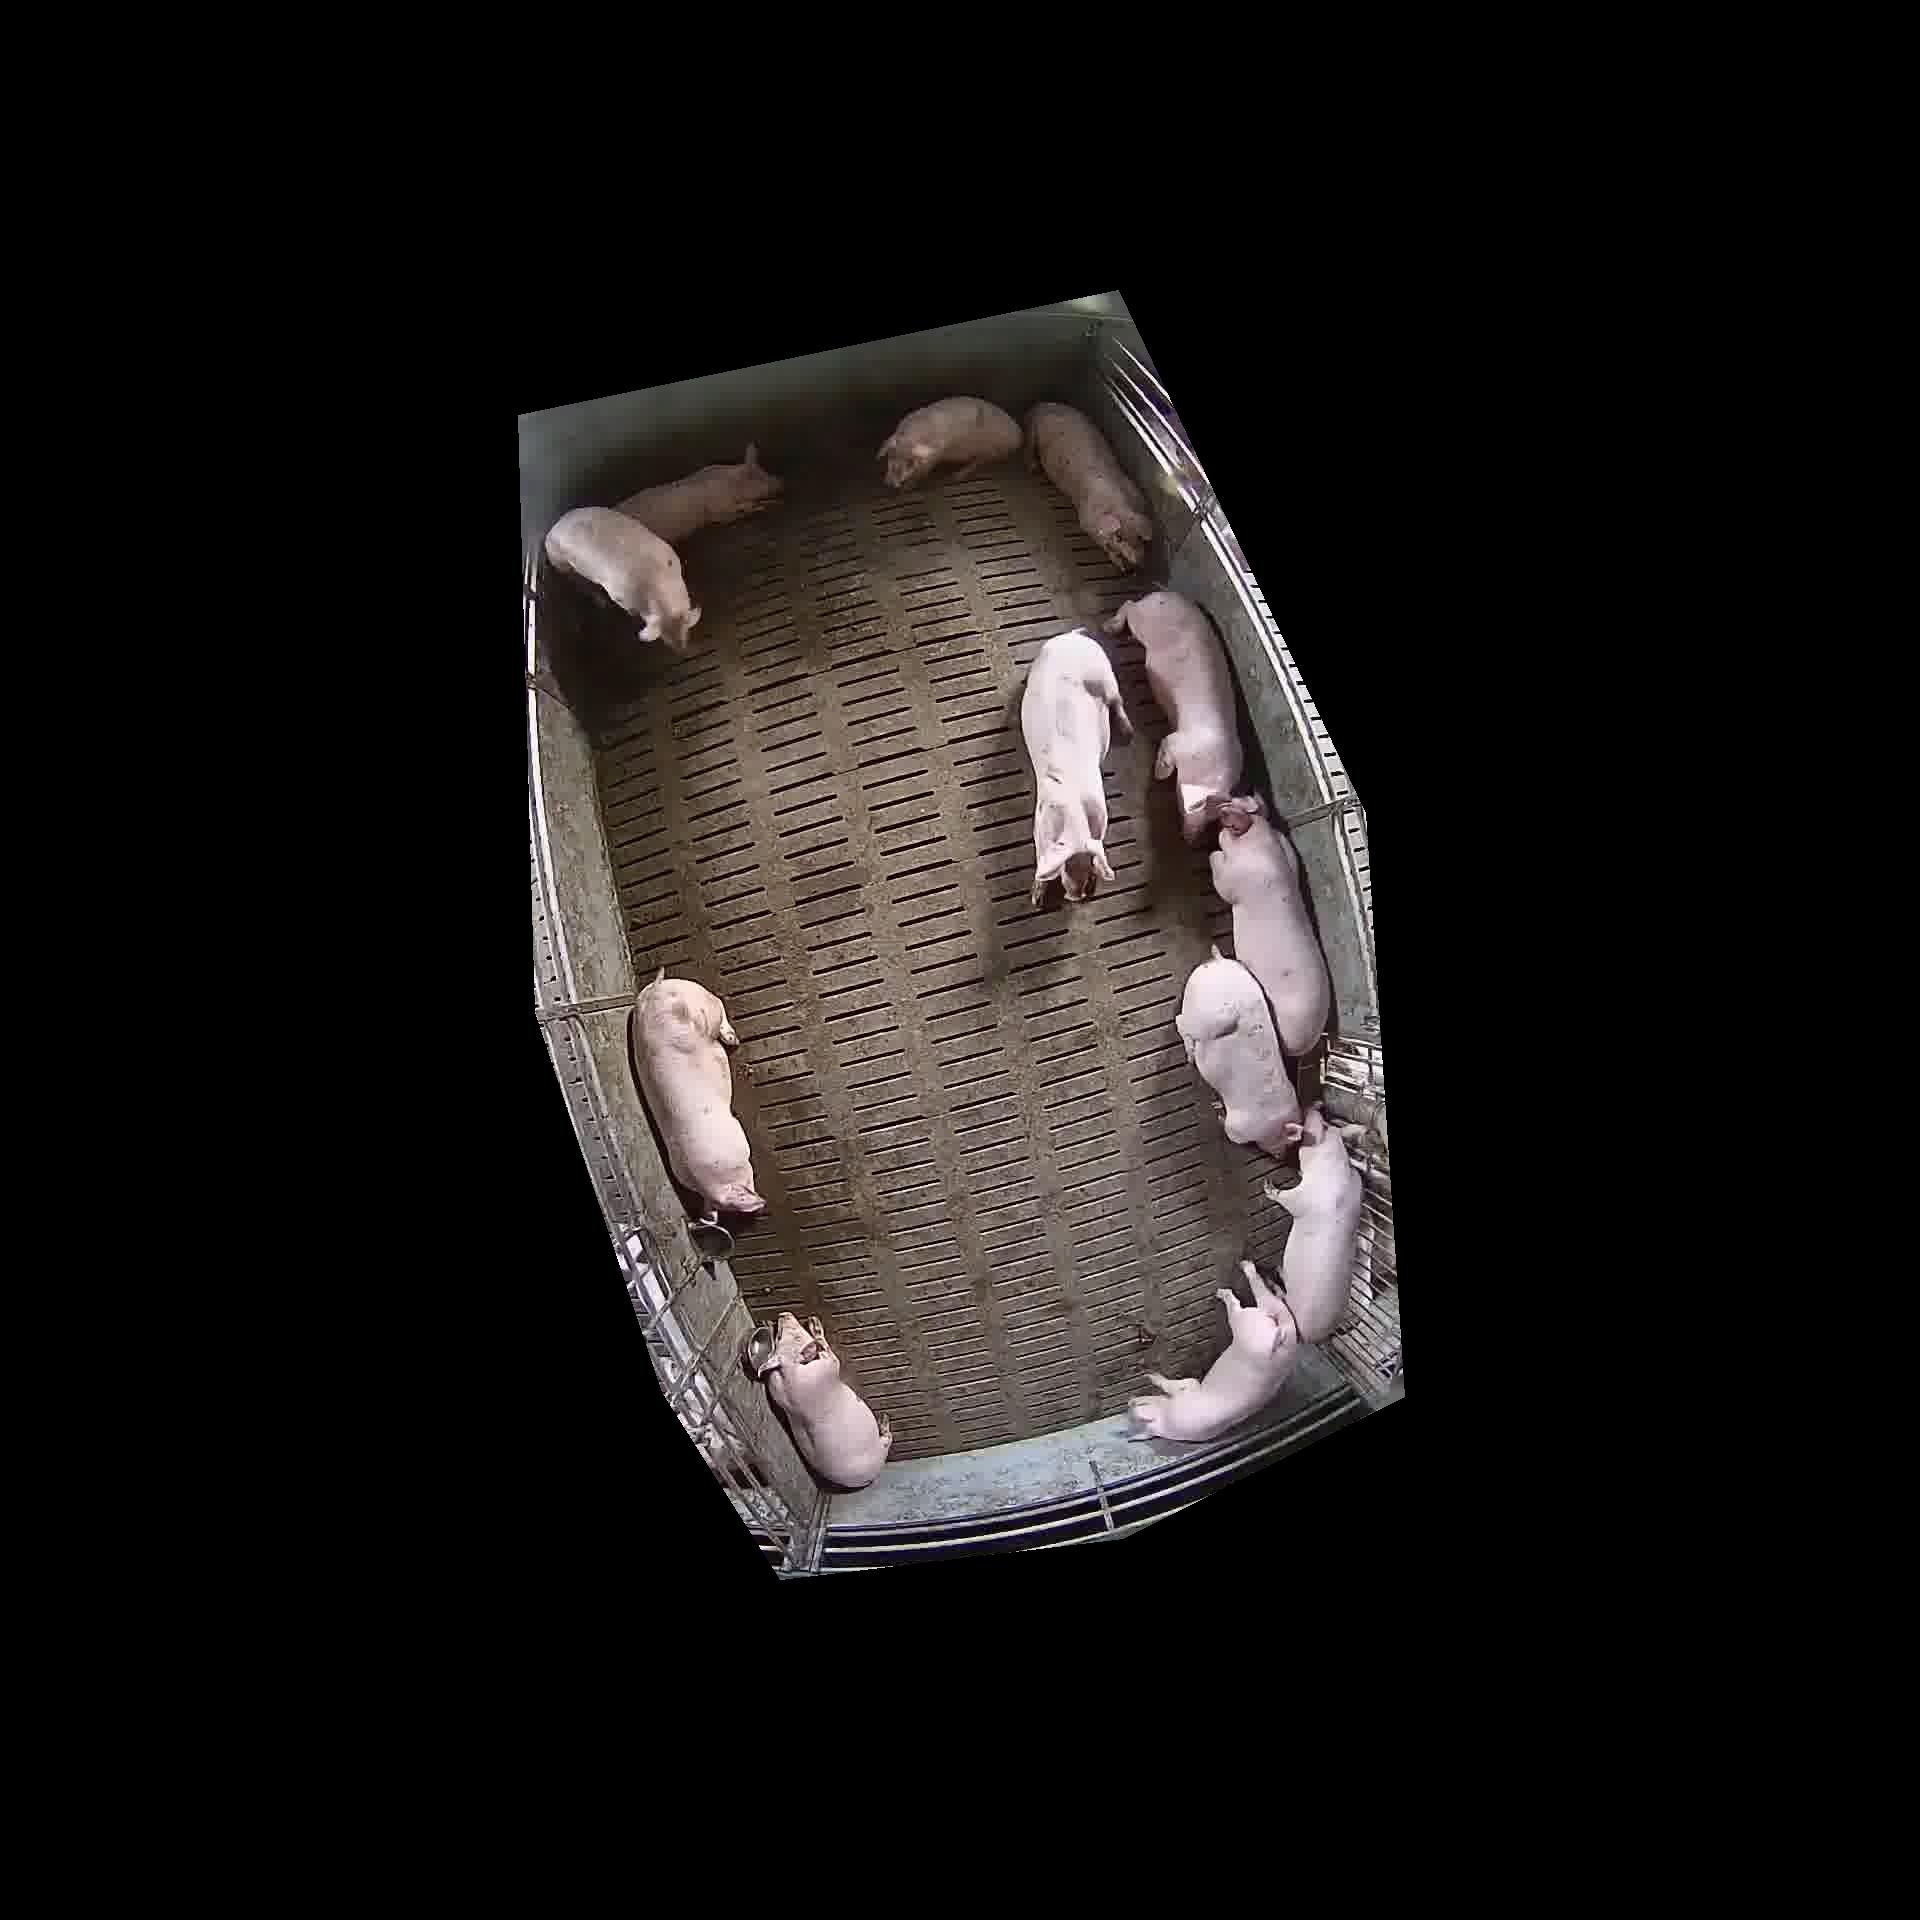pig: (1104, 591, 1241, 839), (633, 971, 765, 1211), (1210, 796, 1329, 1055), (1022, 629, 1131, 909), (1131, 1262, 1298, 1442), (1176, 951, 1299, 1153), (760, 1313, 891, 1487), (545, 506, 700, 651), (1269, 1108, 1363, 1342), (1027, 403, 1152, 570), (615, 445, 782, 542), (877, 397, 1022, 489)
